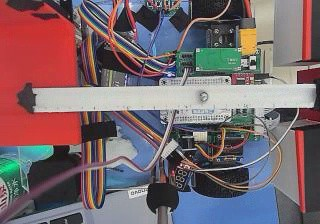ironball: (198, 90, 208, 101)
